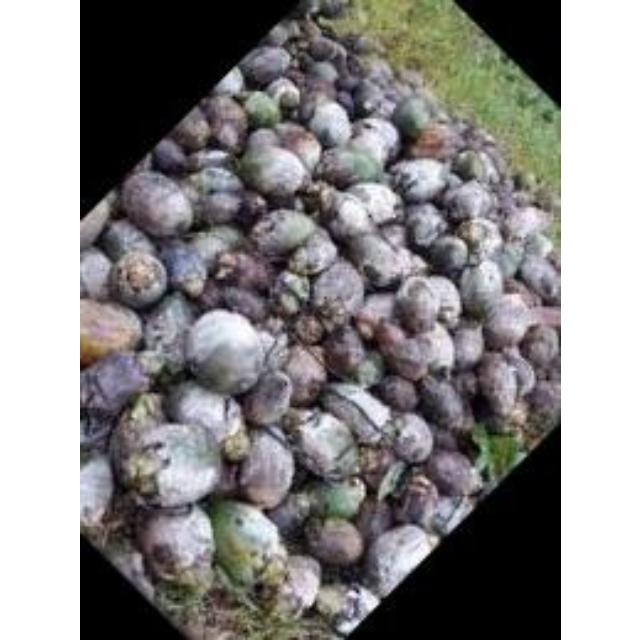damaged: (113, 415, 220, 507), (205, 498, 283, 588), (134, 502, 216, 584), (361, 522, 433, 596), (119, 168, 193, 238), (289, 408, 361, 479), (163, 381, 239, 443), (235, 428, 295, 506), (80, 352, 148, 418), (318, 382, 390, 442), (112, 398, 168, 468), (108, 249, 168, 309), (186, 164, 244, 223), (248, 208, 314, 258), (471, 425, 524, 485), (210, 248, 272, 298), (303, 515, 365, 565), (240, 370, 294, 426), (309, 260, 363, 316), (480, 296, 532, 349), (301, 478, 365, 520), (390, 158, 450, 202), (320, 325, 368, 379), (280, 344, 326, 400), (80, 452, 114, 526), (330, 584, 380, 634), (392, 473, 438, 527), (456, 262, 502, 316), (319, 147, 381, 187), (343, 182, 399, 226), (100, 217, 156, 261), (200, 92, 248, 142), (425, 449, 475, 497), (387, 411, 433, 463), (280, 560, 322, 616), (347, 118, 398, 164), (419, 378, 465, 429), (273, 124, 321, 172), (286, 230, 336, 276), (104, 540, 146, 594), (237, 46, 291, 86), (306, 100, 352, 146), (418, 274, 462, 322), (324, 197, 372, 241), (79, 194, 113, 256), (417, 323, 457, 375), (402, 204, 446, 250), (517, 253, 559, 301), (453, 216, 501, 258), (442, 180, 492, 220), (188, 229, 238, 269), (396, 284, 436, 334), (216, 286, 268, 322), (353, 499, 391, 548), (172, 106, 214, 150), (391, 94, 435, 136), (518, 323, 558, 369), (407, 124, 458, 160), (272, 270, 312, 314), (452, 148, 500, 184), (426, 232, 468, 272), (521, 383, 559, 427), (80, 248, 112, 300), (108, 490, 144, 536), (431, 494, 472, 534), (350, 78, 390, 118), (377, 373, 418, 412), (502, 352, 536, 398), (502, 205, 544, 242), (241, 90, 281, 128), (80, 408, 116, 450), (386, 348, 430, 382), (451, 324, 485, 368), (374, 462, 408, 506), (312, 586, 353, 622), (149, 137, 189, 173), (372, 319, 410, 355), (483, 404, 523, 438), (177, 614, 229, 640), (488, 244, 524, 280), (133, 349, 173, 381), (348, 51, 389, 81), (292, 312, 328, 346), (185, 147, 232, 173), (264, 76, 302, 108), (196, 278, 230, 312), (305, 36, 345, 64), (519, 230, 553, 262), (407, 82, 441, 114), (264, 331, 290, 371), (428, 426, 462, 456), (524, 305, 560, 333), (309, 185, 339, 218), (304, 59, 340, 86), (212, 66, 244, 96), (246, 126, 280, 154), (378, 221, 408, 251), (353, 312, 383, 342), (502, 277, 536, 303), (403, 252, 431, 282), (394, 67, 428, 91), (345, 34, 379, 56), (264, 21, 292, 47), (530, 187, 556, 213), (296, 18, 322, 44), (522, 428, 546, 454), (313, 1, 347, 18), (333, 89, 355, 115), (346, 6, 369, 30), (292, 0, 322, 18), (516, 170, 538, 193), (540, 109, 554, 123)
